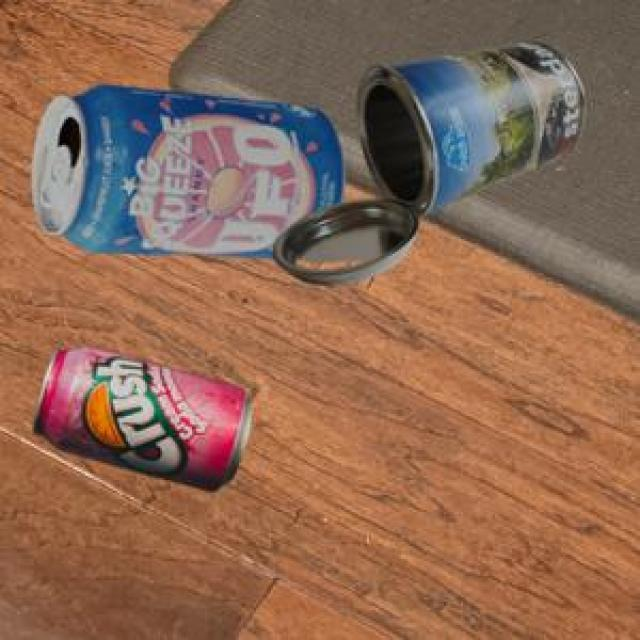Can: (270, 39, 581, 281), (29, 82, 342, 255), (31, 342, 249, 487)
